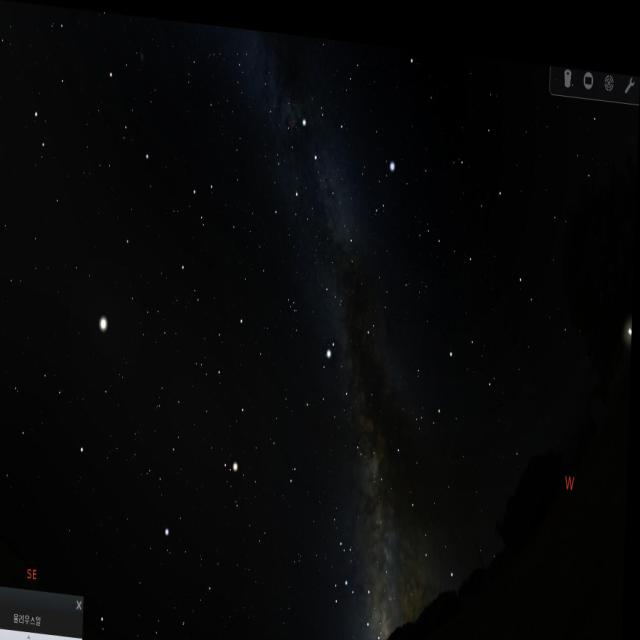aquila: (296, 326, 381, 457)
cygnus: (294, 105, 365, 279)
lyra: (370, 144, 400, 214)
